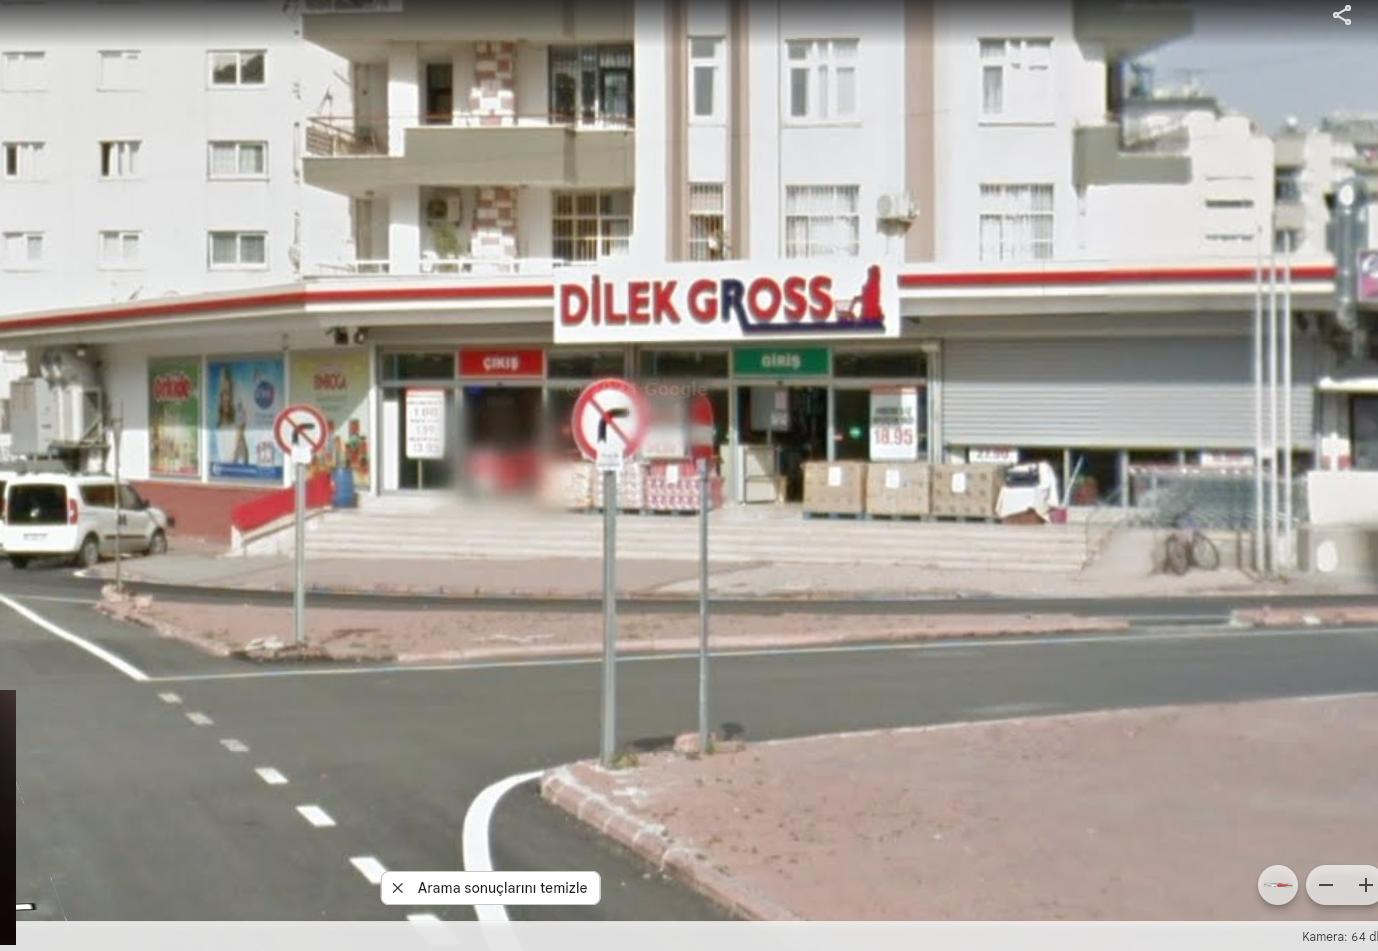rightturnsareforbidden: (581, 380, 648, 457), (270, 401, 327, 455)
